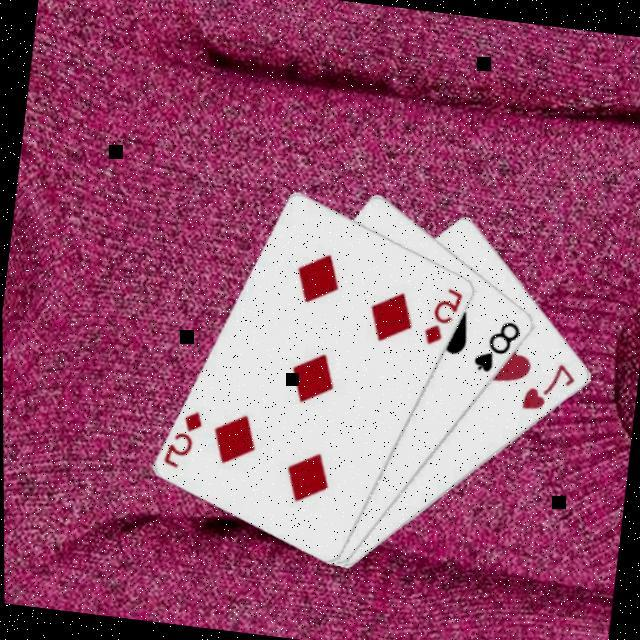5D: (417, 280, 465, 350), (156, 402, 204, 472)
7H: (515, 355, 577, 417)
8S: (466, 312, 522, 378)
